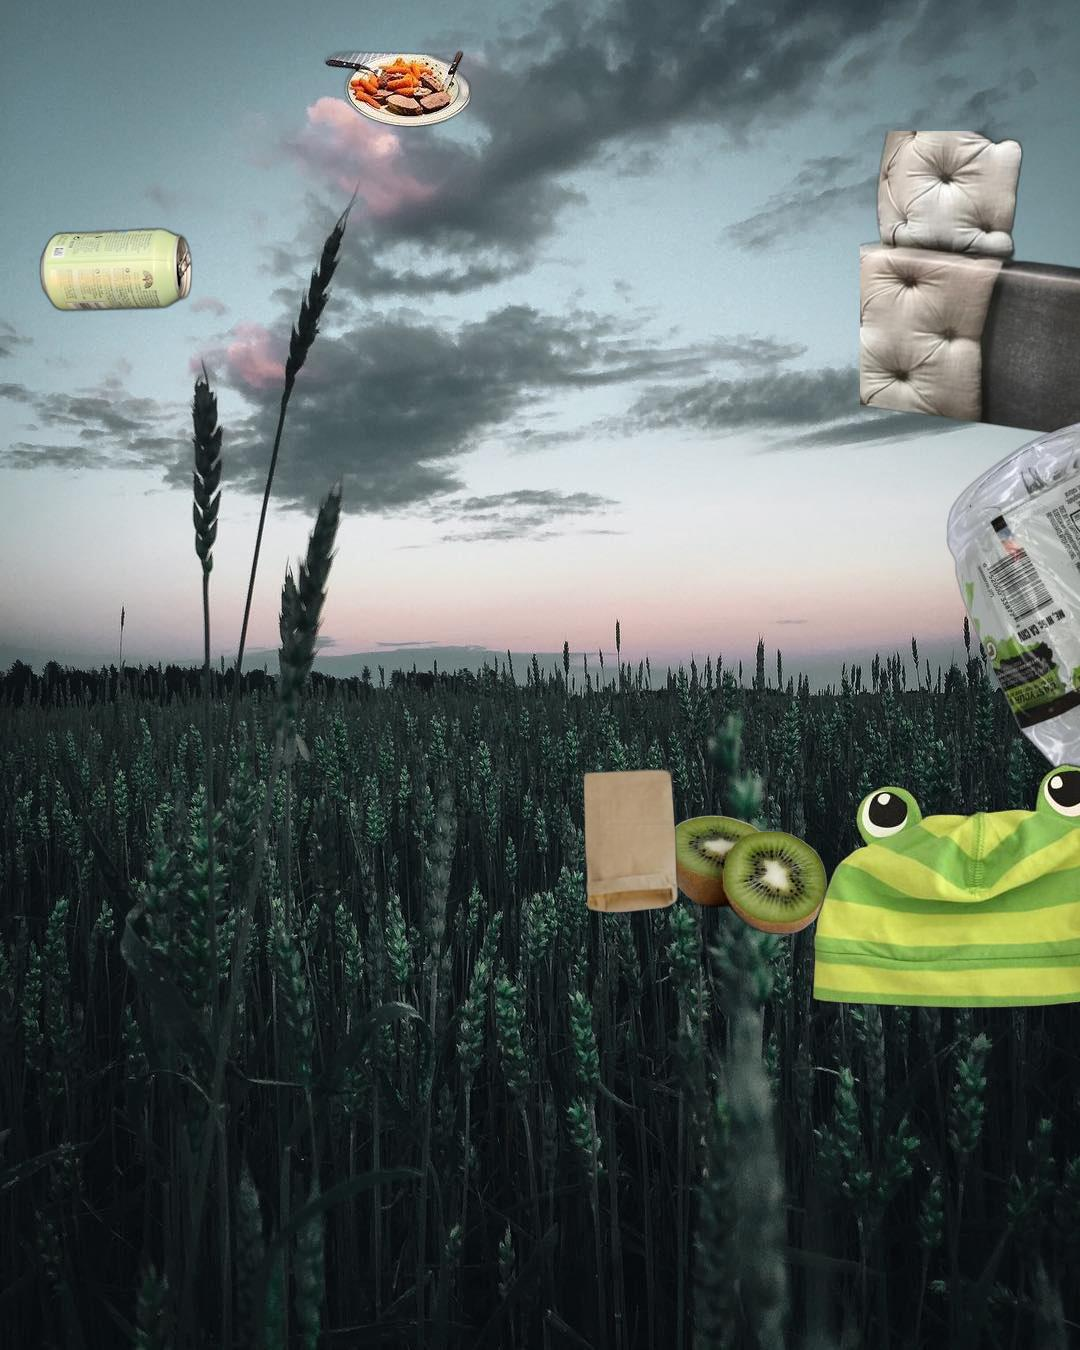biological: (665, 812, 830, 937), (315, 48, 475, 131)
clothes: (808, 760, 1080, 1012)
metal-cans: (35, 222, 196, 317)
paper: (860, 131, 1080, 482)
paper-bag: (580, 765, 681, 915)
penholder: (858, 1316, 1080, 1350)
plastic-bottles: (943, 422, 1080, 806)
